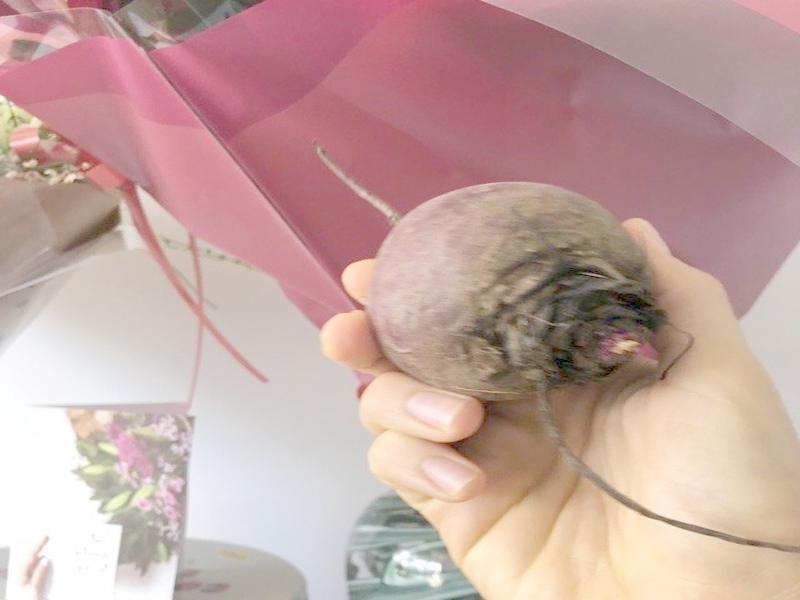Beet: (310, 141, 794, 553)
